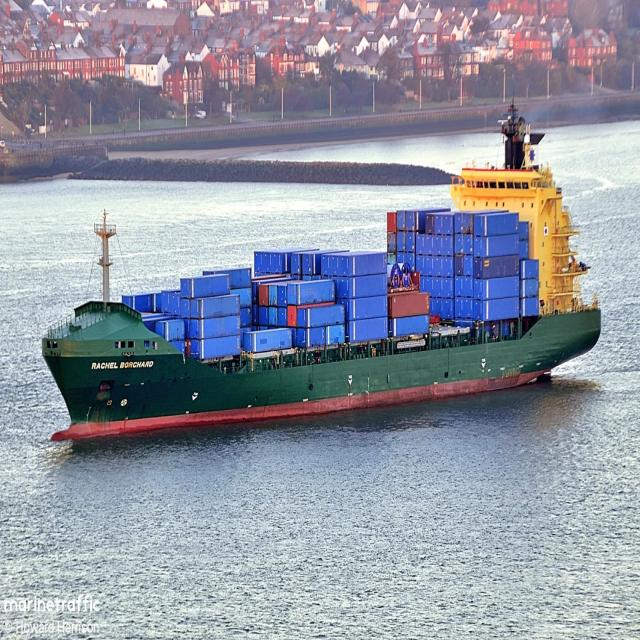Cargo: (43, 102, 600, 440)
